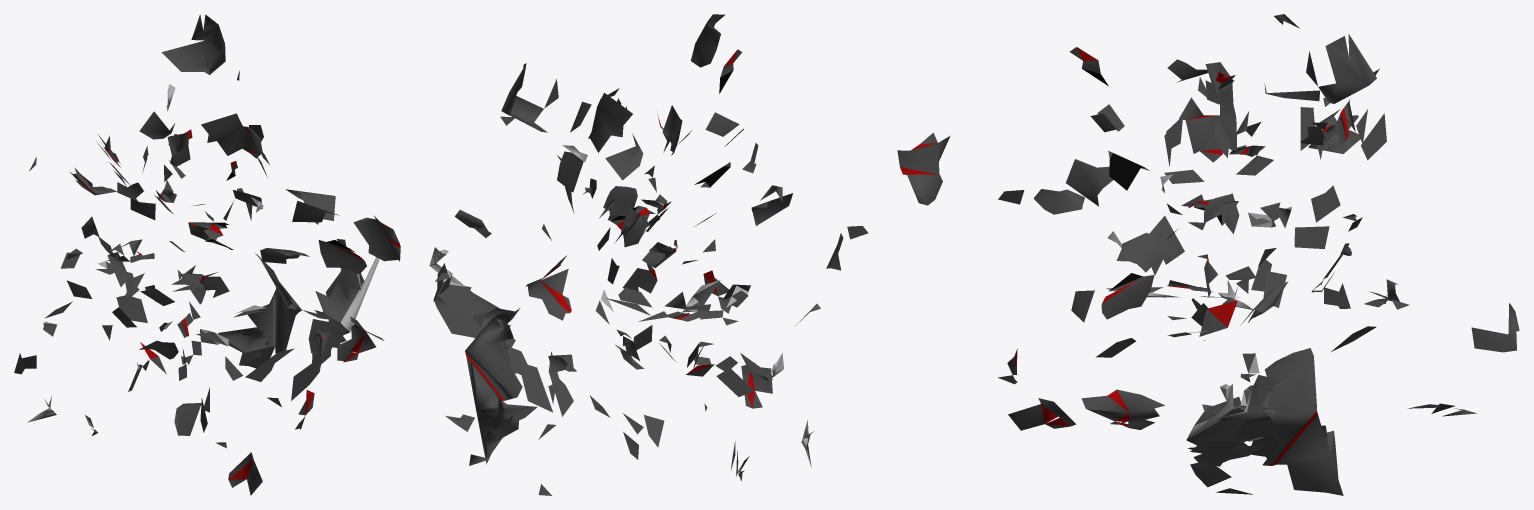
Rendered from spacecraftExplosion_000010.obj.
3 views of the same model, side by side, from view 1: azimuth 30°, elevation 25°; view 2: azimuth 150°, elevation 25°; view 3: azimuth 270°, elevation 25° (orthographic). The views are drawn at different scales.
Visible parts, largest first — view 1: Cube; view 2: Cube; view 3: Cube.
Boxes of the visible parts, x1,y1,x2,y2 form: Cube: (14, 14, 400, 495); Cube: (429, 14, 868, 495); Cube: (897, 14, 1519, 495).
Bounding box in the file's own units: 13.05 × 13.44 × 16.67.
